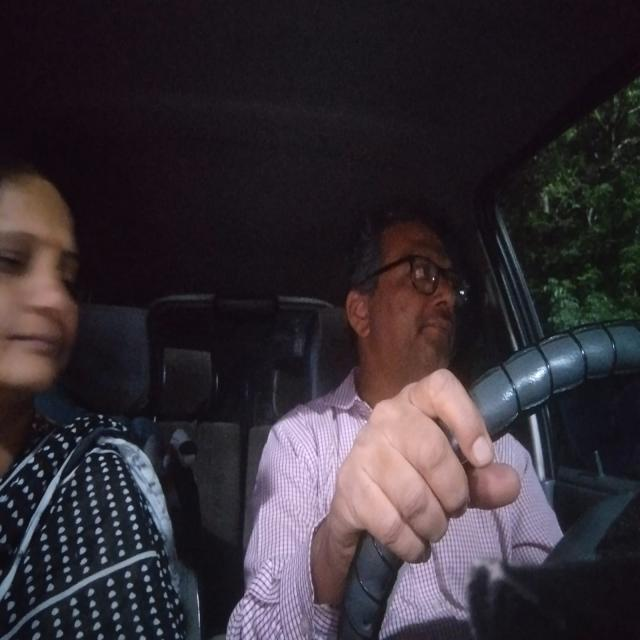LeftRight: (334, 203, 474, 402)
person: (0, 164, 93, 402)
